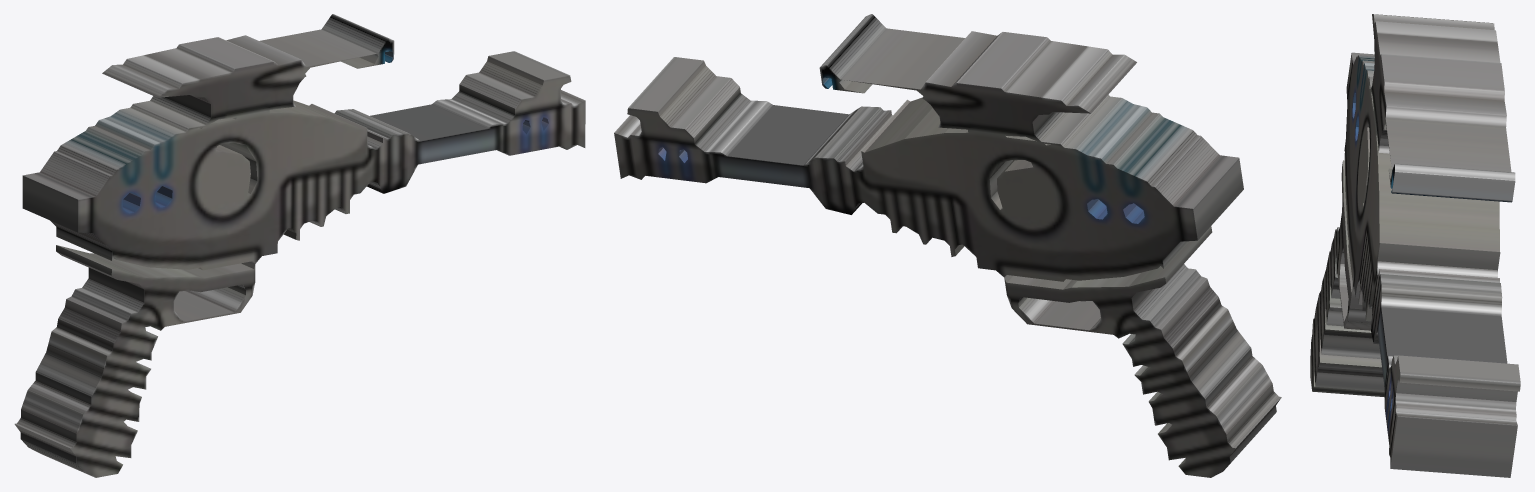
The model's file is gun 2.fbx.
3 renders of one model, left to right at view 1: azimuth 30°, elevation 25°; view 2: azimuth 150°, elevation 25°; view 3: azimuth 270°, elevation 25°, orthographic. The views are drawn at different scales.
Visible parts, largest first — view 1: node_id34, node_id31, node_id28; view 2: node_id34, node_id31, node_id28; view 3: node_id34, node_id31, node_id28.
Boxes of the visible parts, box(x1,y1,x2,y2) form: node_id34: box(22, 29, 585, 270); node_id31: box(14, 245, 255, 477); node_id28: box(321, 14, 394, 68); node_id34: box(614, 28, 1243, 281); node_id31: box(1004, 226, 1281, 477); node_id28: box(819, 14, 886, 93); node_id34: box(1344, 14, 1520, 477); node_id31: box(1310, 160, 1384, 397); node_id28: box(1388, 163, 1515, 202).
Bounding box in the file's own units: 0.4962 × 0.3065 × 0.1339.
Materials: 3 (3 with a texture image).
